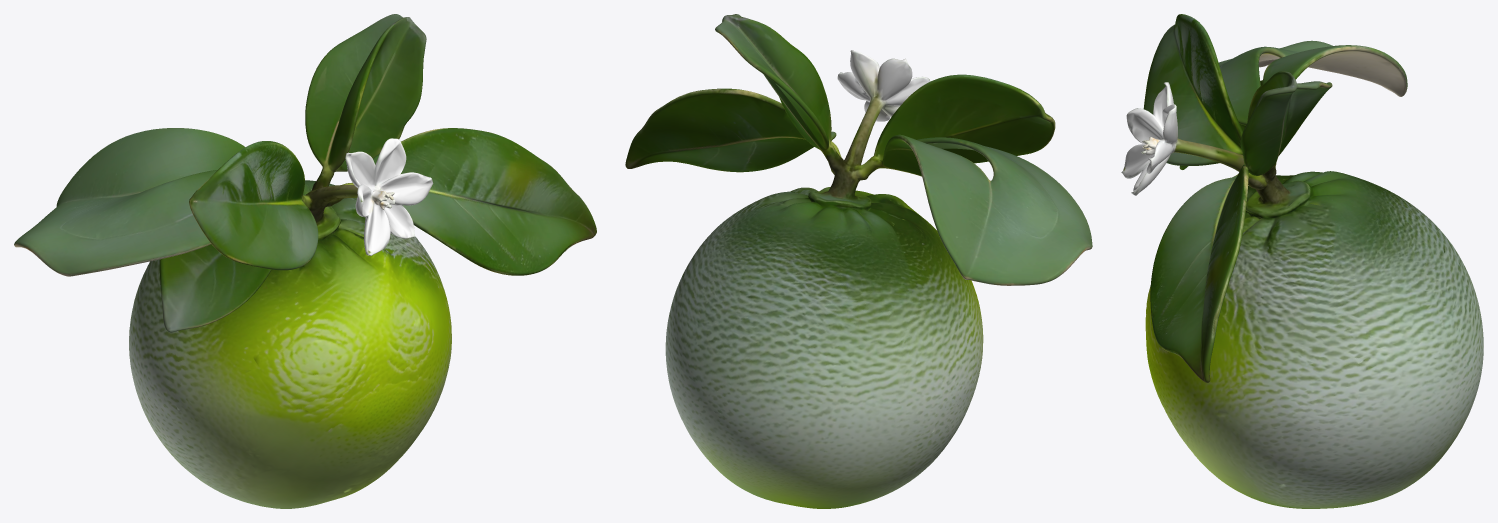
The model's file is zhiqiao.glb.
3 views of the same model, side by side, from view 1: azimuth 30°, elevation 25°; view 2: azimuth 150°, elevation 25°; view 3: azimuth 270°, elevation 25° (orthographic). The views are drawn at different scales.
Visible parts, largest first — view 1: node_0; view 2: node_0; view 3: node_0.
Part boxes in pixels (x1,y1,x2,y2): node_0: (14, 14, 596, 508); node_0: (625, 14, 1092, 508); node_0: (1121, 14, 1483, 508).
Size of the model in its own units: 1.15 by 0.9569 by 0.6708.
Materials: 1 (1 with a texture image).
